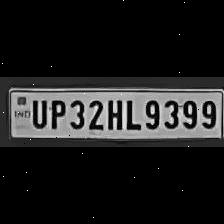2: (84, 96, 104, 130)
3: (66, 96, 86, 130), (160, 95, 180, 129)
9: (140, 95, 160, 129), (178, 96, 198, 130), (198, 97, 218, 129)
H: (104, 96, 124, 130)
L: (124, 96, 140, 130)
P: (46, 96, 66, 130)
U: (28, 96, 48, 128)
